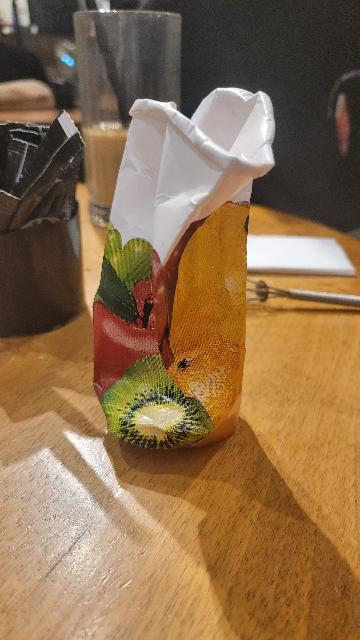Cam: (69, 0, 188, 225)
Kagit: (102, 89, 287, 457), (249, 229, 360, 287)
Metal: (0, 213, 94, 337)
